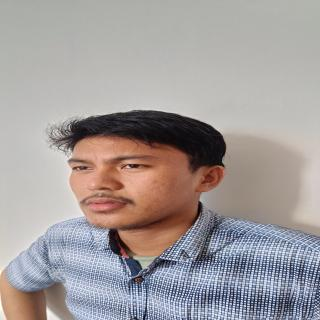Marah: (58, 132, 209, 233)
